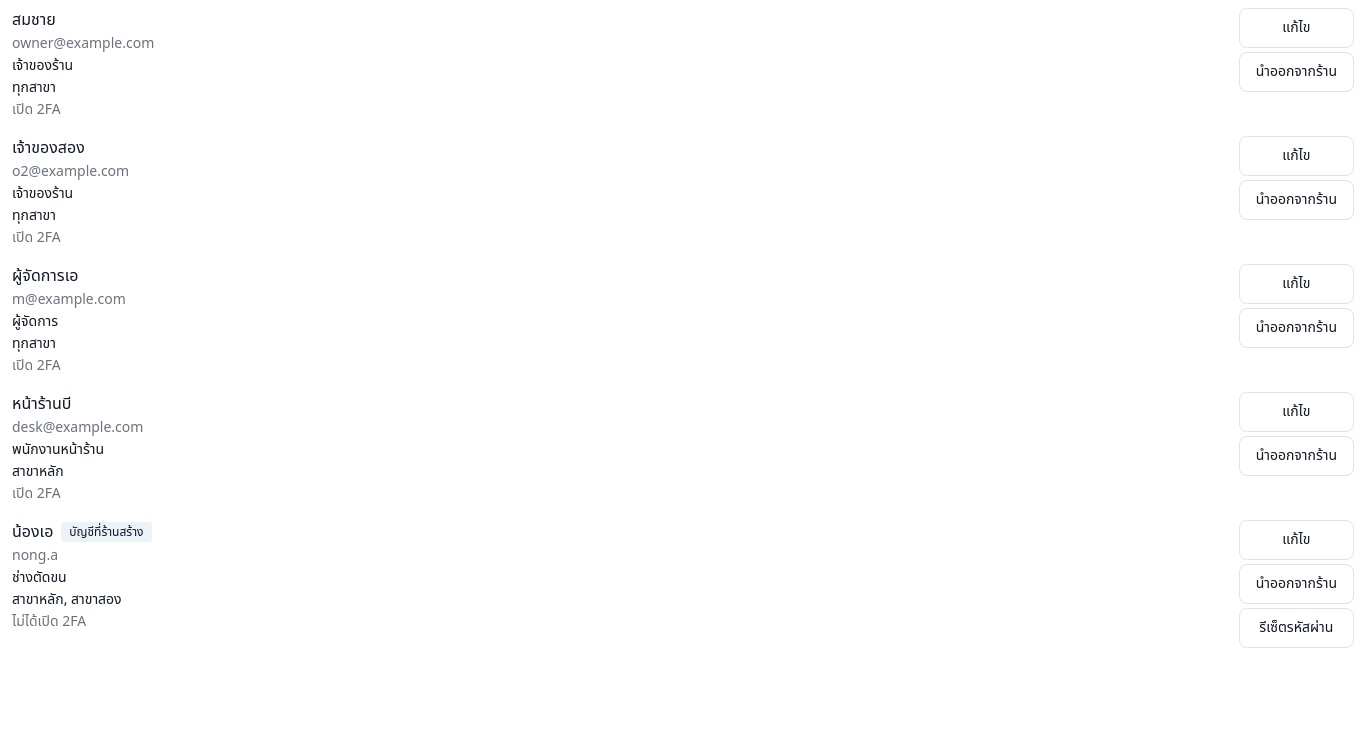
Test: edit (#contract-staff-update) › FORBIDDEN → its message, dialog stays open
Expected: the text "น้องเอ" is shown, [12,520,53,544]
Click the button "แก้ไข" in the row of "สมชาย" at (1296, 28), box [1239,8,1354,48]
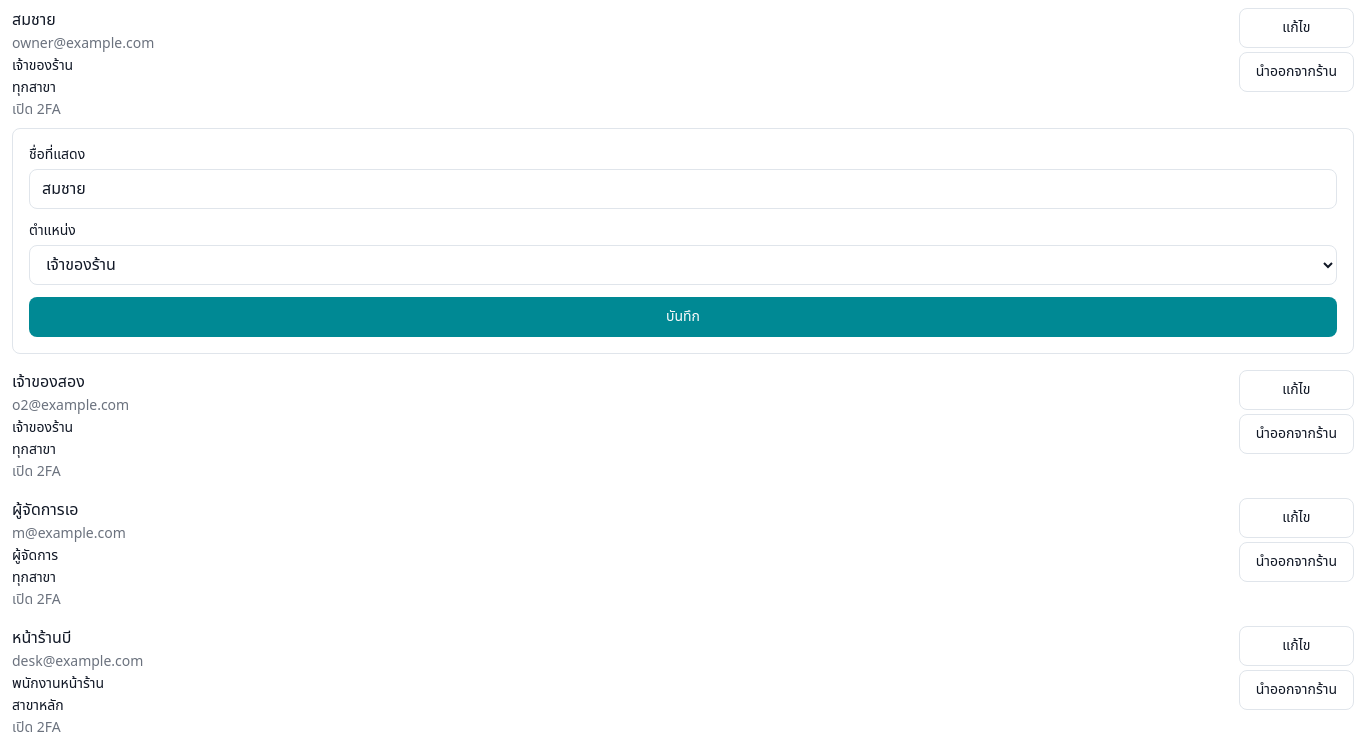
Select "ผู้จัดการ" in the dropdown labelled "ตำแหน่ง" at (683, 265), box [29,245,1337,285]
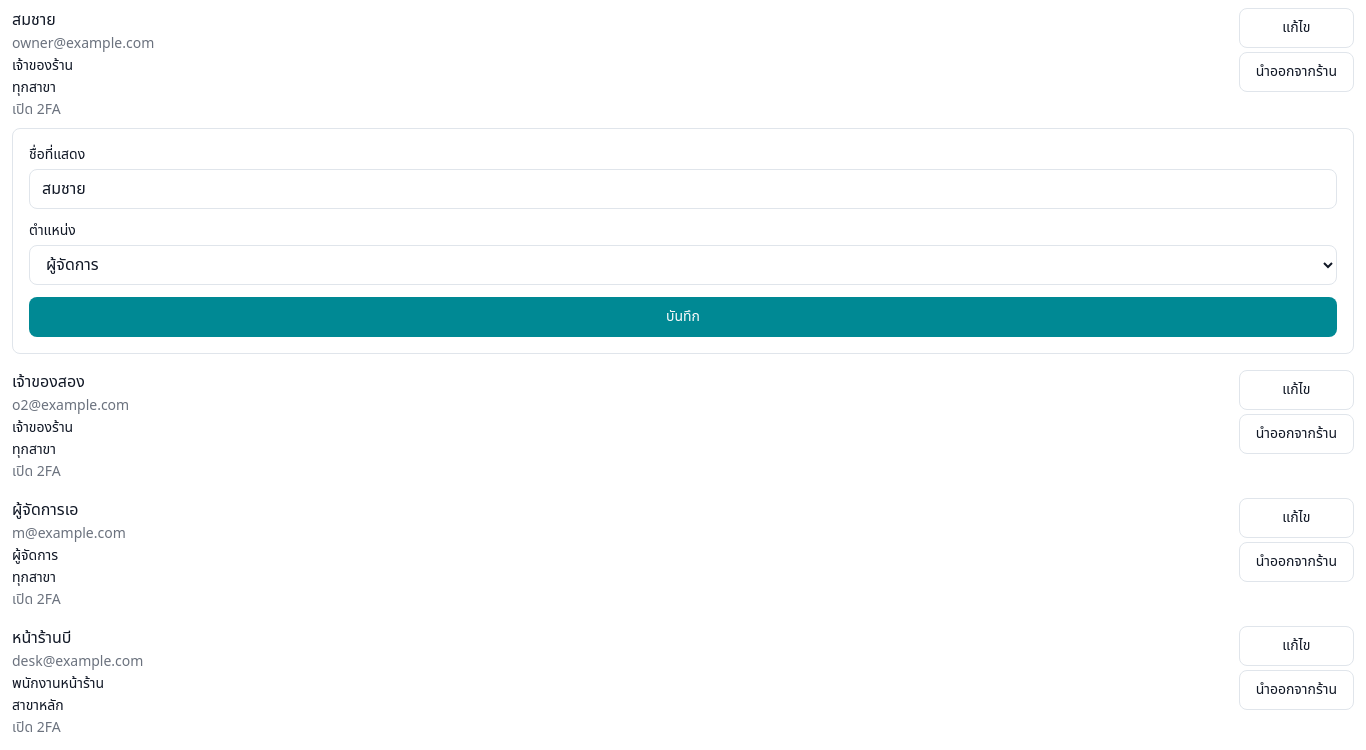
Click the button "บันทึก" at (683, 317), box [29,297,1337,337]
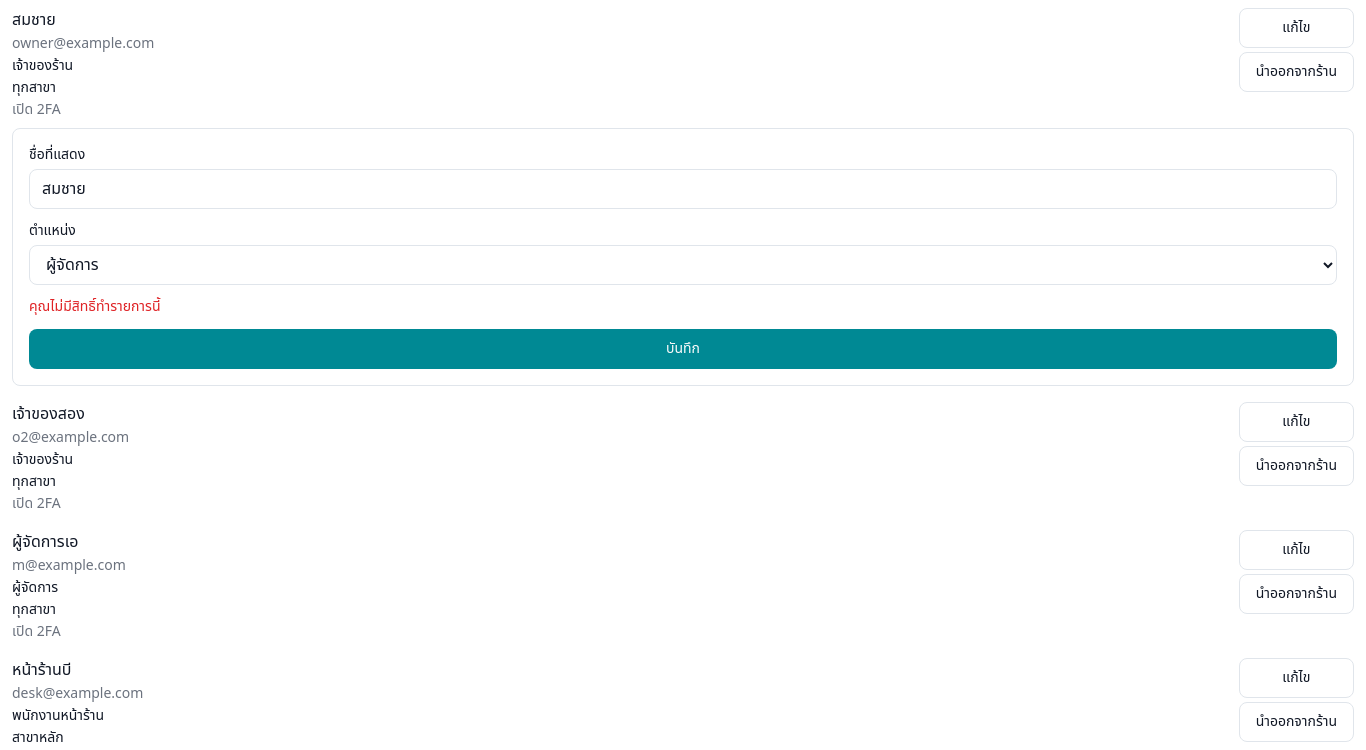
Result: the text "คุณไม่มีสิทธิ์ทำรายการนี้" is shown at [29,296,160,317]
